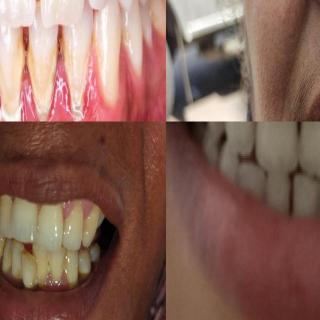Gum Swelling: (71, 40, 140, 122), (11, 59, 74, 122), (44, 274, 68, 288)
calculus: (28, 42, 58, 122), (66, 46, 92, 122), (0, 100, 22, 121)
maligned: (265, 167, 291, 221), (236, 158, 264, 207), (294, 170, 318, 218), (20, 251, 38, 295)
plaque: (55, 250, 69, 276), (42, 256, 55, 280)
stains: (75, 255, 89, 288), (4, 242, 12, 276), (0, 233, 6, 260)
